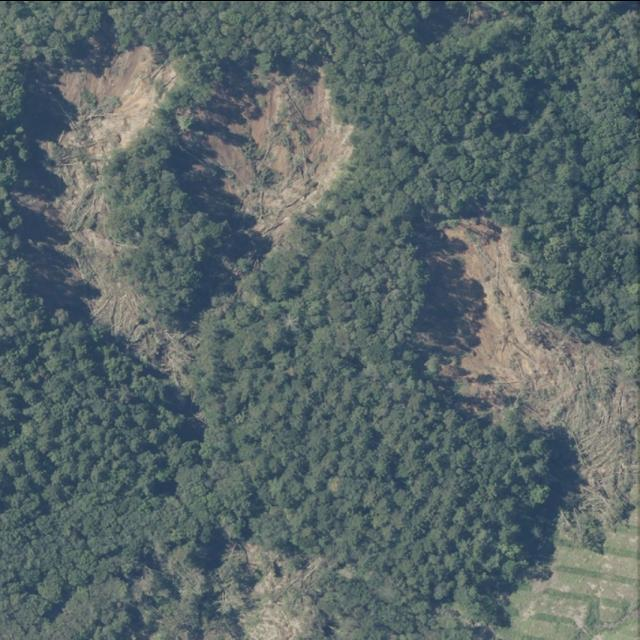landslide: (6, 44, 353, 415), (414, 210, 640, 640), (237, 545, 320, 640)
